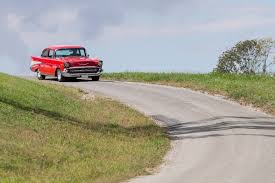front_car: (28, 44, 105, 84)
